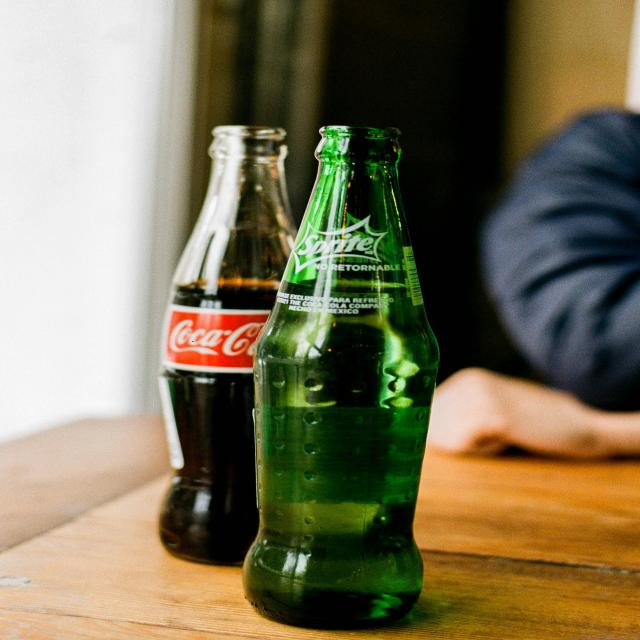electronic: (162, 124, 430, 626)
